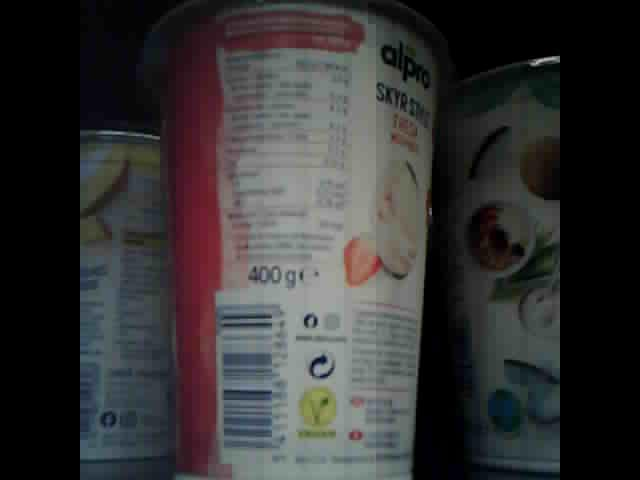alpro: (145, 2, 453, 478), (442, 56, 560, 473), (79, 123, 168, 463)
